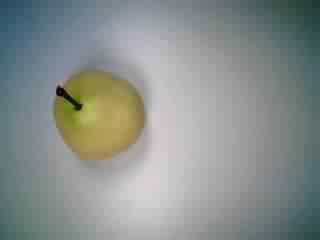pear: (47, 61, 146, 164)
